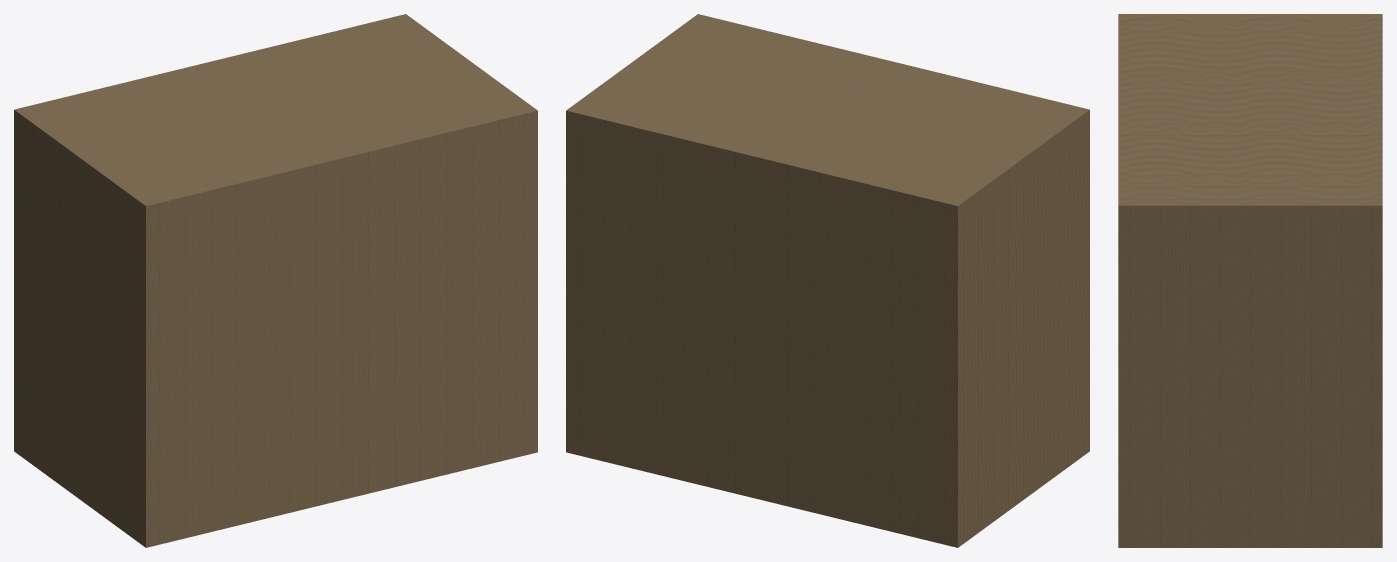
Rendered from loot_crate.glb.
3 views of the same model, side by side, from view 1: azimuth 30°, elevation 25°; view 2: azimuth 150°, elevation 25°; view 3: azimuth 270°, elevation 25° (orthographic).
Parts seen in each view (by area): view 1: DD_Prop_LootCrate; view 2: DD_Prop_LootCrate; view 3: DD_Prop_LootCrate.
Boxes of the visible parts, x1=… form: DD_Prop_LootCrate: x1=14, y1=14, x2=537, y2=547; DD_Prop_LootCrate: x1=566, y1=14, x2=1089, y2=547; DD_Prop_LootCrate: x1=1118, y1=14, x2=1382, y2=547.
Bounding box in the file's own units: 1.2 × 1 × 0.7.
2 materials, 2 textured.
